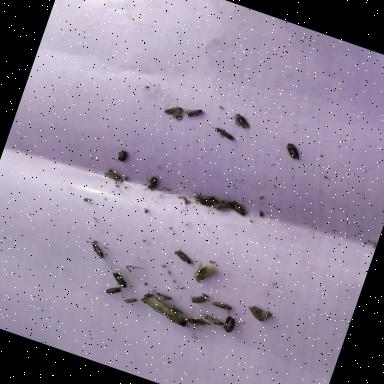abw: (134, 294, 213, 342)
pbw: (190, 260, 216, 286), (229, 112, 253, 134), (206, 124, 235, 142), (86, 242, 112, 262), (108, 271, 132, 291), (108, 146, 130, 167), (172, 249, 197, 266), (180, 104, 203, 122), (283, 142, 303, 162), (246, 306, 268, 323), (225, 200, 248, 216), (208, 299, 234, 313), (104, 282, 123, 300), (200, 313, 224, 327), (164, 103, 183, 119), (188, 293, 209, 307), (222, 316, 236, 336), (143, 174, 159, 190), (200, 196, 218, 210), (212, 198, 227, 212), (197, 192, 213, 204), (156, 292, 174, 302), (124, 296, 138, 306)
